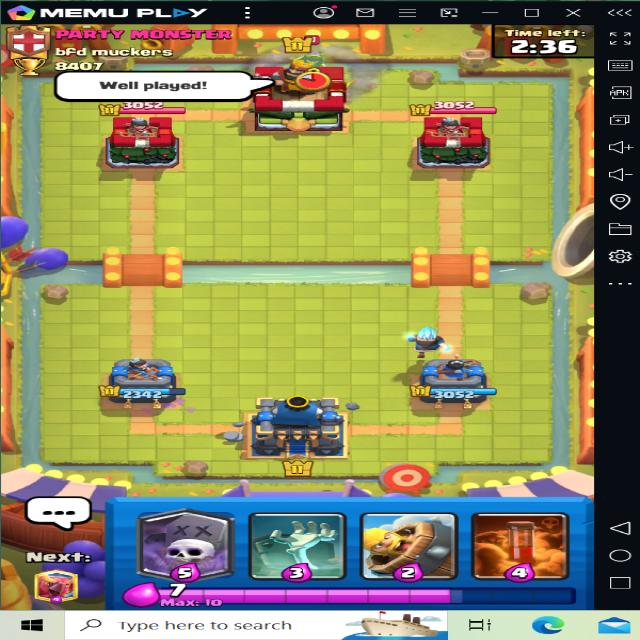Queen: (290, 35, 338, 85)
